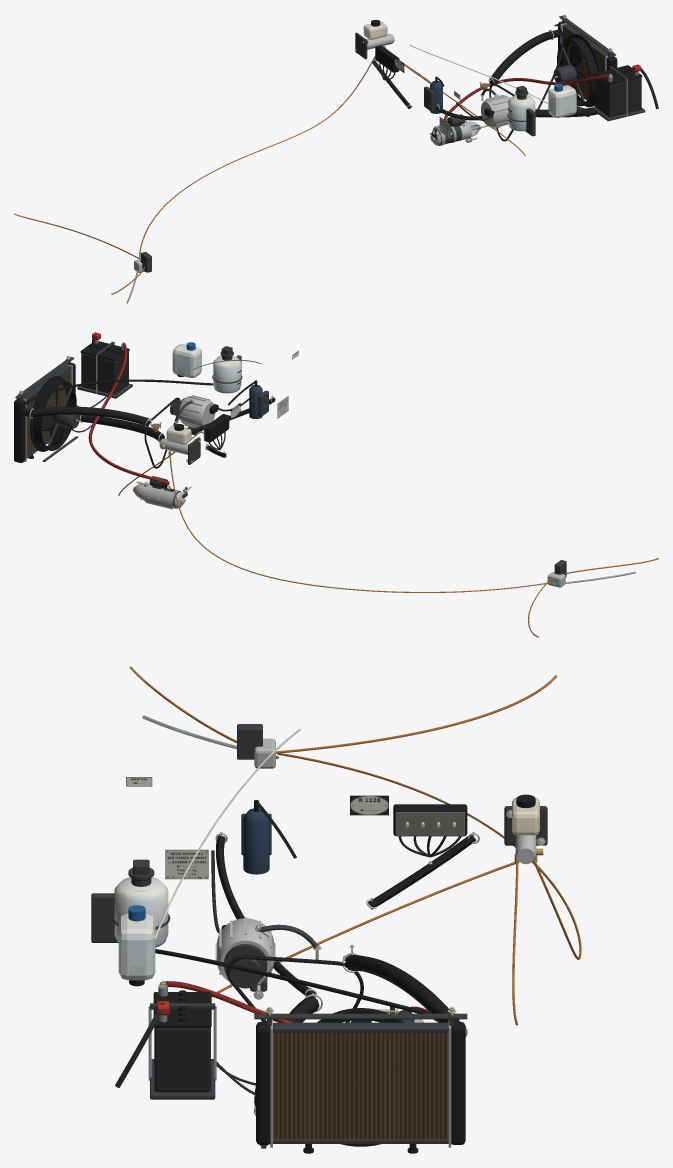
Rendered from equipements.glb.
3 renders of one model, top to bottom at view 1: azimuth 30°, elevation 25°; view 2: azimuth 150°, elevation 25°; view 3: azimuth 270°, elevation 25°, orthographic. The views are drawn at different scales.
Parts seen in each view (by area): view 1: durites.caoutchouc, batterie.bac-batterie, motoventilateur.noir, lave-glace.plastique-translucide, maitre-cylindre.cuivre, alternateur.alu-coule, vase-expansion.plastique-translucide, radiateur.acier-noirci, batterie.fil-rouge, radiateur.faisceau-radiateur, motoventilateur.acier-noirci, batterie.noir; view 2: durites.caoutchouc, motoventilateur.noir, batterie.bac-batterie, maitre-cylindre.cuivre, vase-expansion.plastique-translucide, radiateur.noir, alternateur.alu-coule, lave-glace.plastique-translucide, radiateur.faisceau-radiateur, batterie.fil-rouge, radiateur.acier-noirci, motoventilateur.acier-noirci (+3 smaller); view 3: radiateur.faisceau-radiateur, durites.caoutchouc, radiateur.acier-noirci, batterie.bac-batterie, radiateur.noir, maitre-cylindre.cuivre, fusibles.noir, lave-glace.plastique-translucide, vase-expansion.plastique-translucide, alternateur.alu-coule, alternateur.acier-noirci, bobine.bobine (+12 smaller).
Part boxes in pixels (x1,y1,x2,y2): durites.caoutchouc: (372,24,597,120); batterie.bac-batterie: (595,76,641,117); motoventilateur.noir: (557,34,600,107); lave-glace.plastique-translucide: (548,85,576,117); maitre-cylindre.cuivre: (139,55,525,257); alternateur.alu-coule: (481,95,510,127); vase-expansion.plastique-translucide: (508,95,535,131); radiateur.acier-noirci: (559,15,615,106); batterie.fil-rouge: (444,74,610,120); radiateur.faisceau-radiateur: (563,28,604,98); motoventilateur.acier-noirci: (553,43,589,116); batterie.noir: (595,65,642,85); durites.caoutchouc: (25,379,275,457); motoventilateur.noir: (30,376,76,451); batterie.bac-batterie: (81,351,128,394); maitre-cylindre.cuivre: (118,430,553,592); vase-expansion.plastique-translucide: (213,355,241,393); radiateur.noir: (14,363,81,462); alternateur.alu-coule: (179,395,215,428); lave-glace.plastique-translucide: (172,344,201,377); radiateur.faisceau-radiateur: (26,369,70,455); batterie.fil-rouge: (88,343,169,484); radiateur.acier-noirci: (15,357,74,458); motoventilateur.acier-noirci: (42,387,79,462); radiateur.faisceau-radiateur: (273,1033,448,1139); durites.caoutchouc: (155,835,475,1111); radiateur.acier-noirci: (254,1013,467,1143); batterie.bac-batterie: (154,1027,210,1092); radiateur.noir: (256,1019,465,1144); maitre-cylindre.cuivre: (211,753,581,1025); fusibles.noir: (393,804,467,836); lave-glace.plastique-translucide: (118,913,155,980); vase-expansion.plastique-translucide: (114,877,168,947); alternateur.alu-coule: (215,917,275,984); alternateur.acier-noirci: (224,924,318,991); bobine.bobine: (243,808,269,874).
Size of the model in its own units: 2.89 by 0.774 by 1.13.
35 materials, 4 textured.
